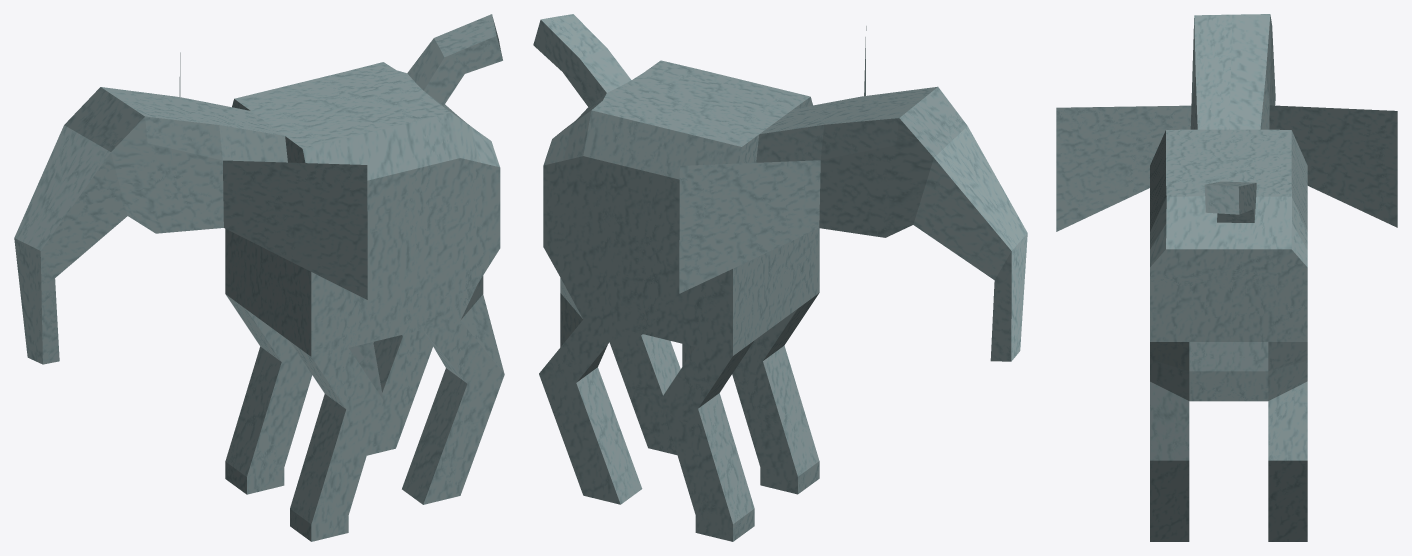
File: goodelephant.glb
The picture shows the model from 3 angles, left to right: view 1: azimuth 30°, elevation 25°; view 2: azimuth 150°, elevation 25°; view 3: azimuth 270°, elevation 25°; orthographic projection. The views are drawn at different scales.
Parts seen in each view (by area): view 1: Cube; view 2: Cube; view 3: Cube.
Part boxes in pixels (x1,y1,x2,y2): Cube: [14, 14, 504, 541]; Cube: [533, 14, 1027, 541]; Cube: [1056, 14, 1397, 541].
Bounding box in the file's own units: 6.45 × 5.67 × 4.33.
Materials: 1 (1 with a texture image).
